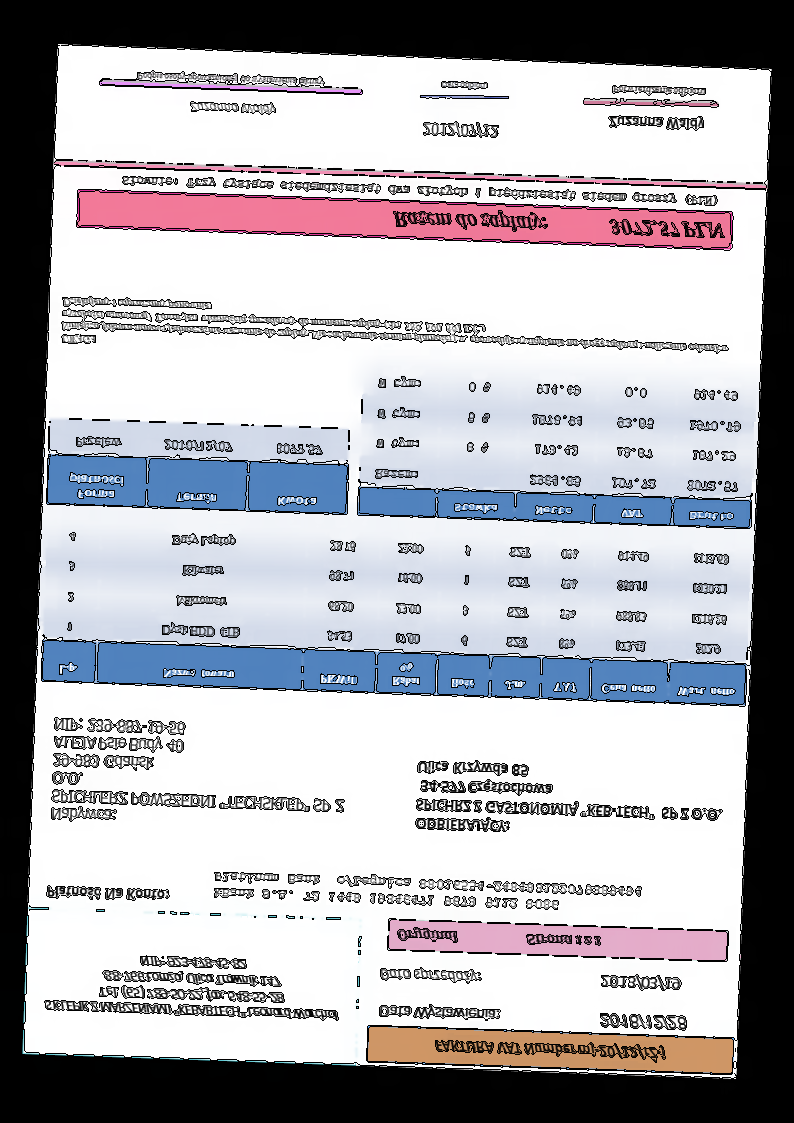Table: (39, 515, 753, 710), (355, 363, 758, 532), (45, 416, 351, 518)
TextBox: (59, 294, 733, 370), (48, 714, 350, 834), (411, 756, 726, 844), (42, 948, 344, 1025), (119, 172, 720, 209), (209, 868, 645, 917), (389, 206, 728, 245), (432, 1036, 669, 1063), (394, 923, 604, 952), (134, 68, 328, 91), (376, 1000, 503, 1027), (374, 964, 485, 989), (44, 883, 173, 904), (605, 112, 708, 136), (597, 1008, 689, 1034), (610, 80, 708, 103), (185, 98, 279, 120), (417, 119, 501, 142), (596, 971, 683, 993), (438, 76, 490, 96)
